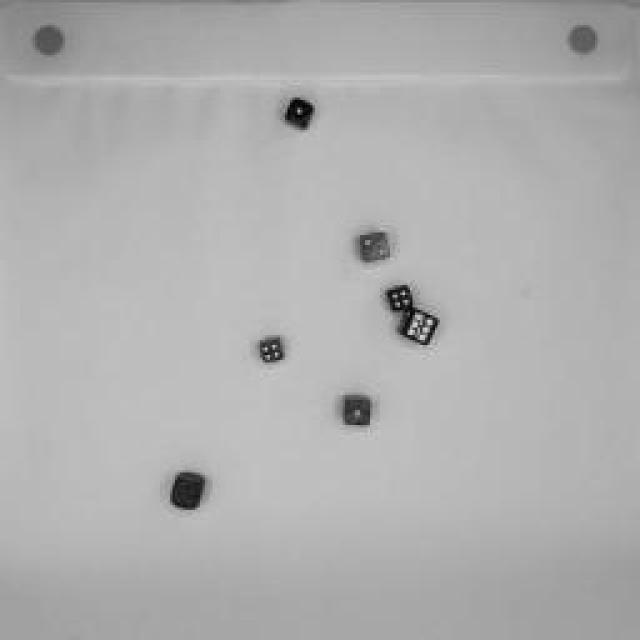dice_1: (335, 390, 380, 432), (280, 94, 320, 134)
dice_2: (352, 225, 398, 270)
dice_4: (255, 331, 295, 369), (382, 282, 418, 318)
dice_5: (165, 464, 217, 518)
dice_6: (398, 302, 442, 350)
